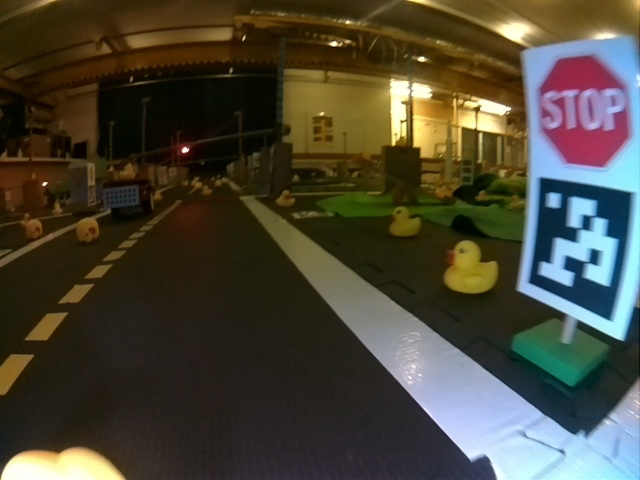Duckie: (445, 241, 498, 294), (388, 207, 418, 234), (76, 218, 99, 243), (278, 190, 295, 207), (27, 220, 41, 238), (119, 164, 136, 178), (202, 186, 212, 195), (154, 190, 163, 199), (476, 192, 486, 200), (22, 216, 29, 226)
Duckiebot: (103, 179, 154, 217)
QR code: (524, 177, 632, 321)
